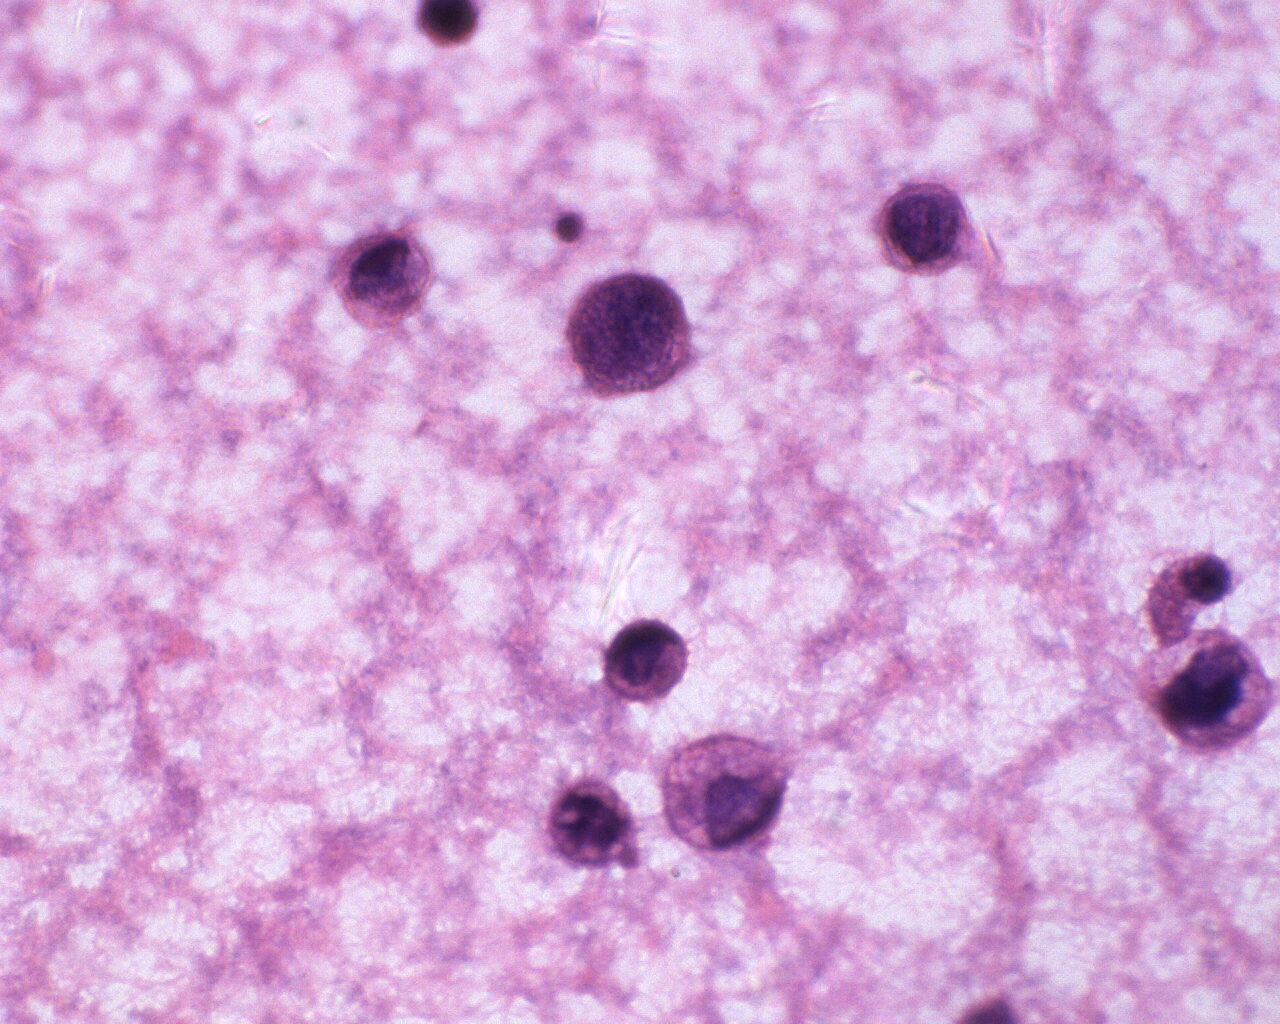ab: (1145, 621, 1274, 762), (559, 269, 694, 399), (664, 727, 793, 854), (332, 222, 433, 328), (875, 177, 975, 280), (544, 774, 637, 870), (600, 616, 689, 707)
